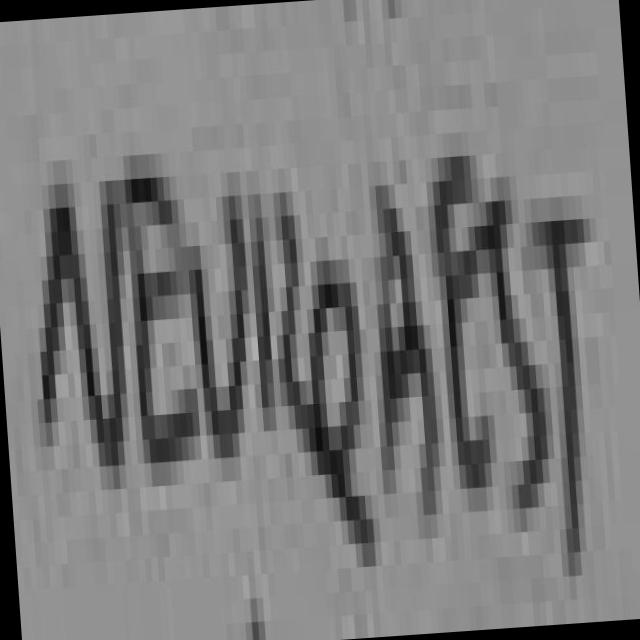B: (375, 198, 442, 533)
E: (125, 177, 199, 451), (439, 155, 494, 484)
N: (44, 208, 127, 465)
O: (315, 284, 363, 488)
R: (255, 192, 317, 465)
S: (493, 181, 548, 507)
T: (531, 218, 589, 540)
U: (195, 219, 250, 457)
